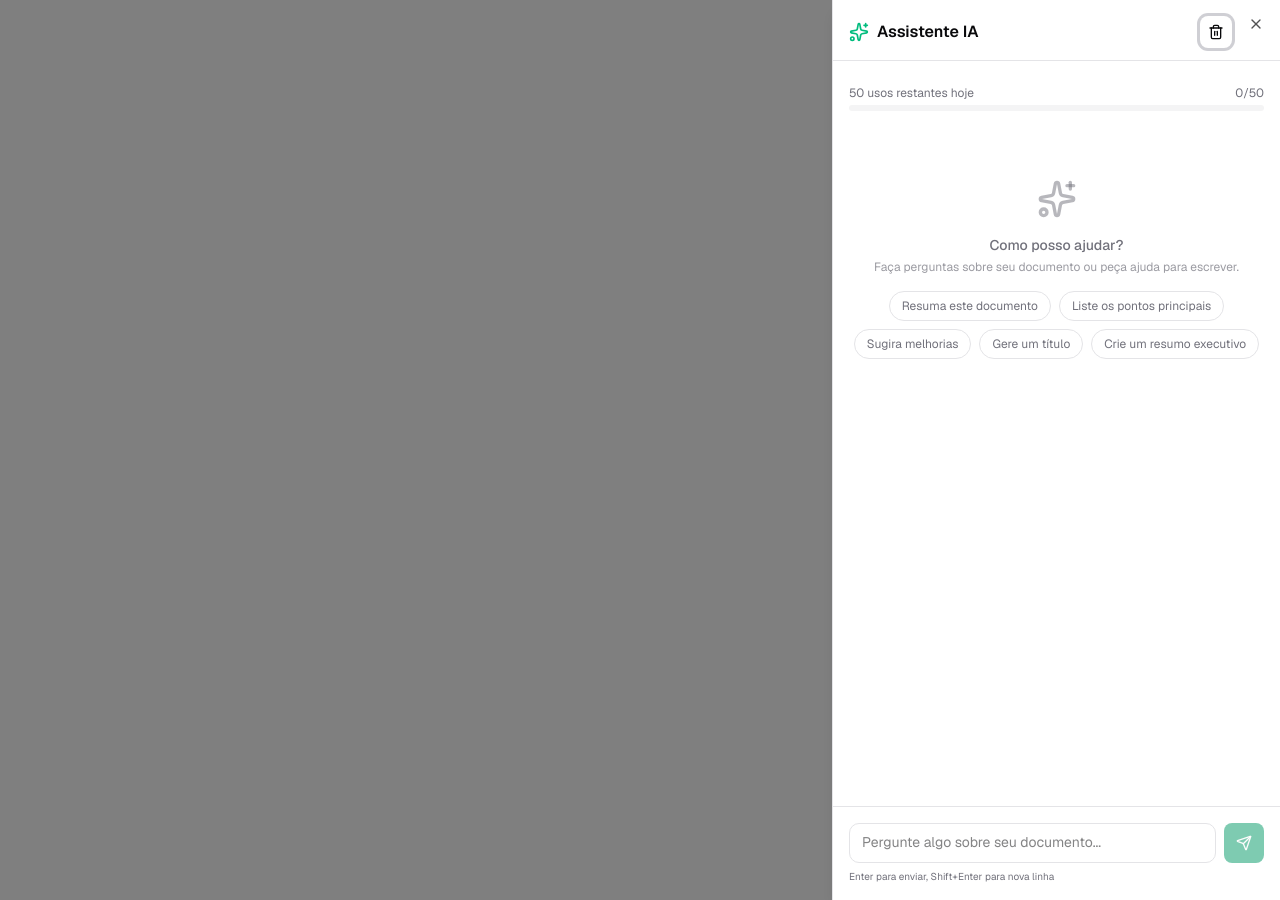
Test: AI Flow Integration › multi-turn: 2 user messages → store has 4 entries (2 user + 2 assistant)
First message
Step 1. Type "First question" into the text box with placeholder "Pergunte algo sobre seu documento..." → {"x": 1032, "y": 843}, box [849,823,1216,863]
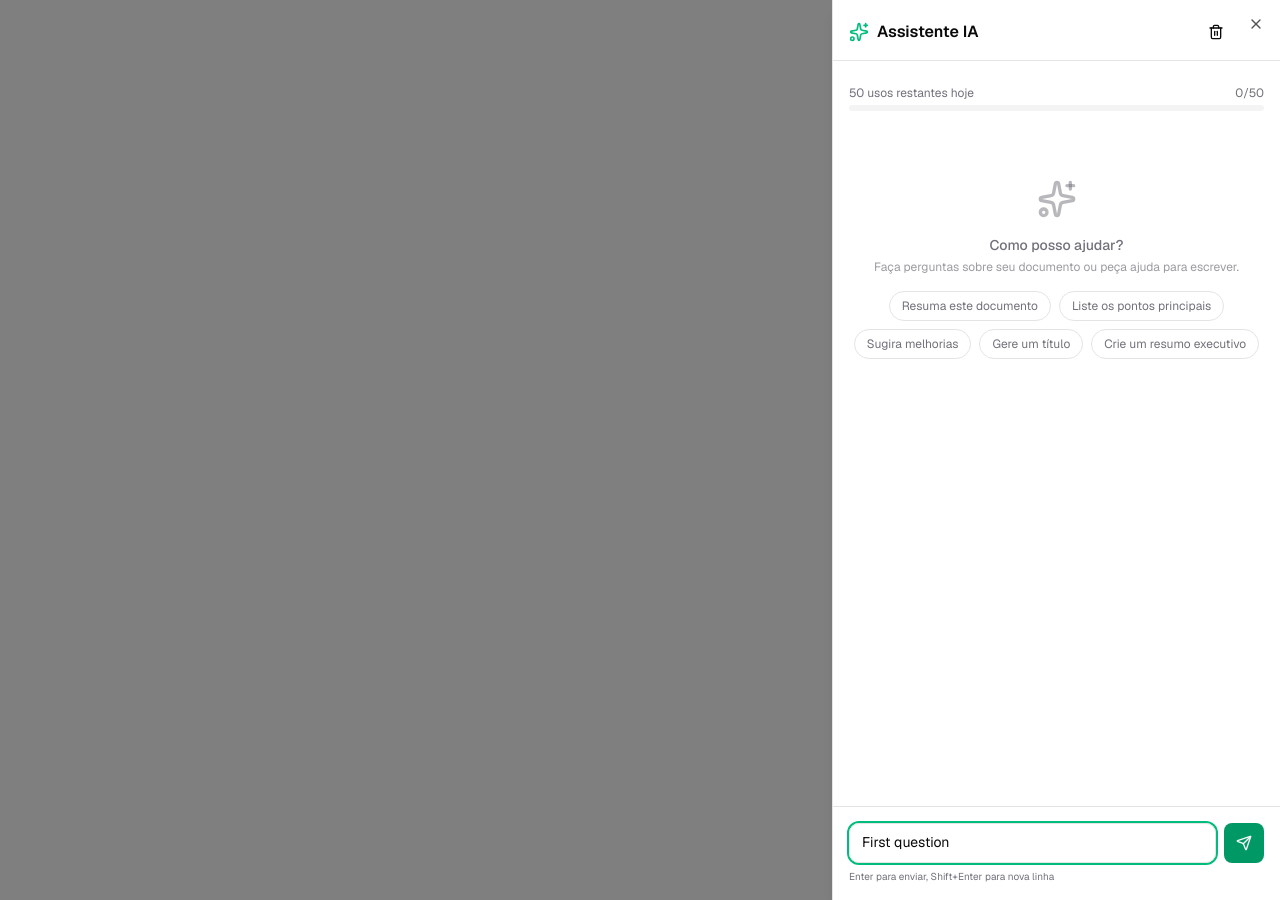
Step 2. Press Enter
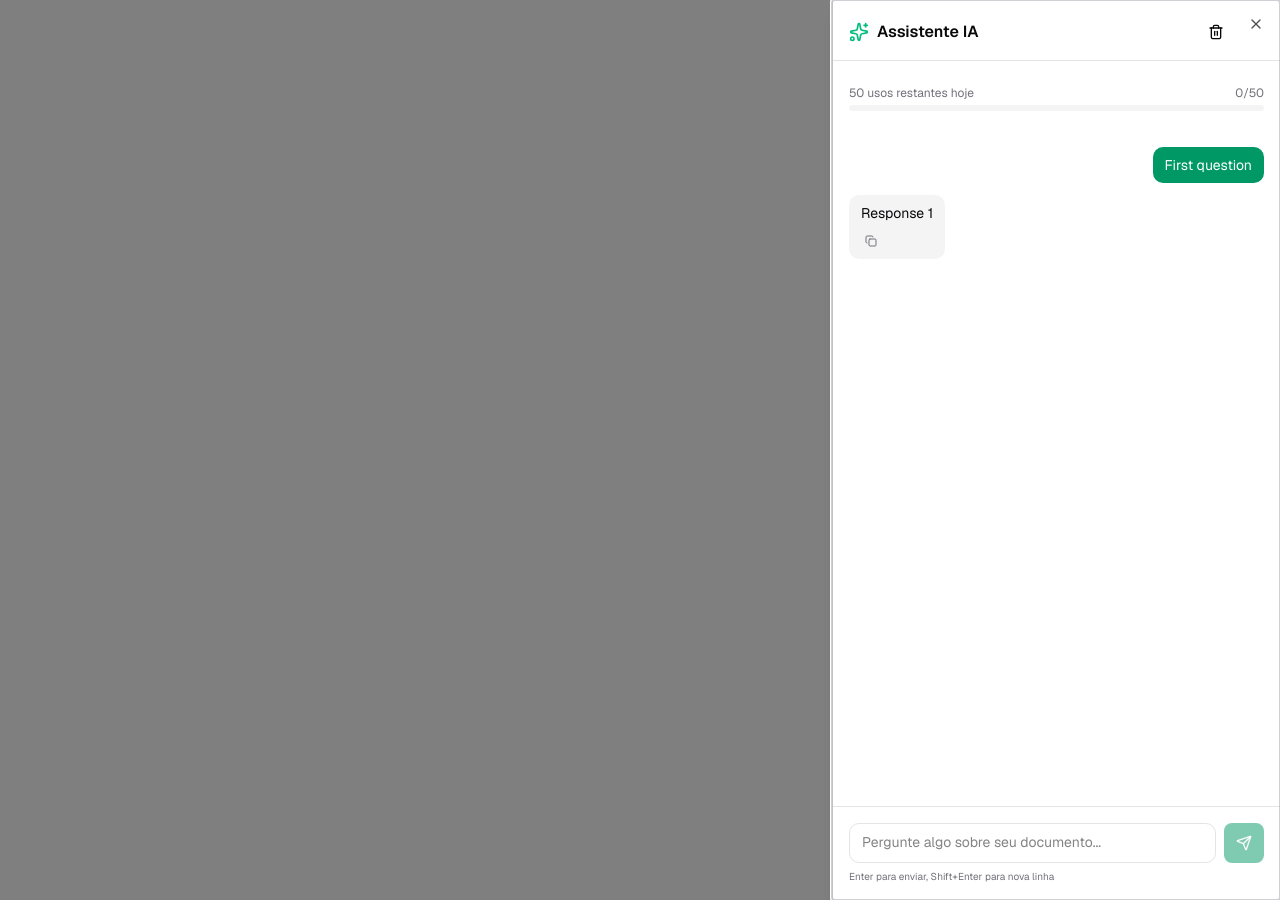
Expected: the text "Response 1" is shown, [861,203,933,223]
Second message
Step 3. Type "Second question" into the text box with placeholder "Pergunte algo sobre seu documento..." → {"x": 1032, "y": 843}, box [849,823,1216,863]
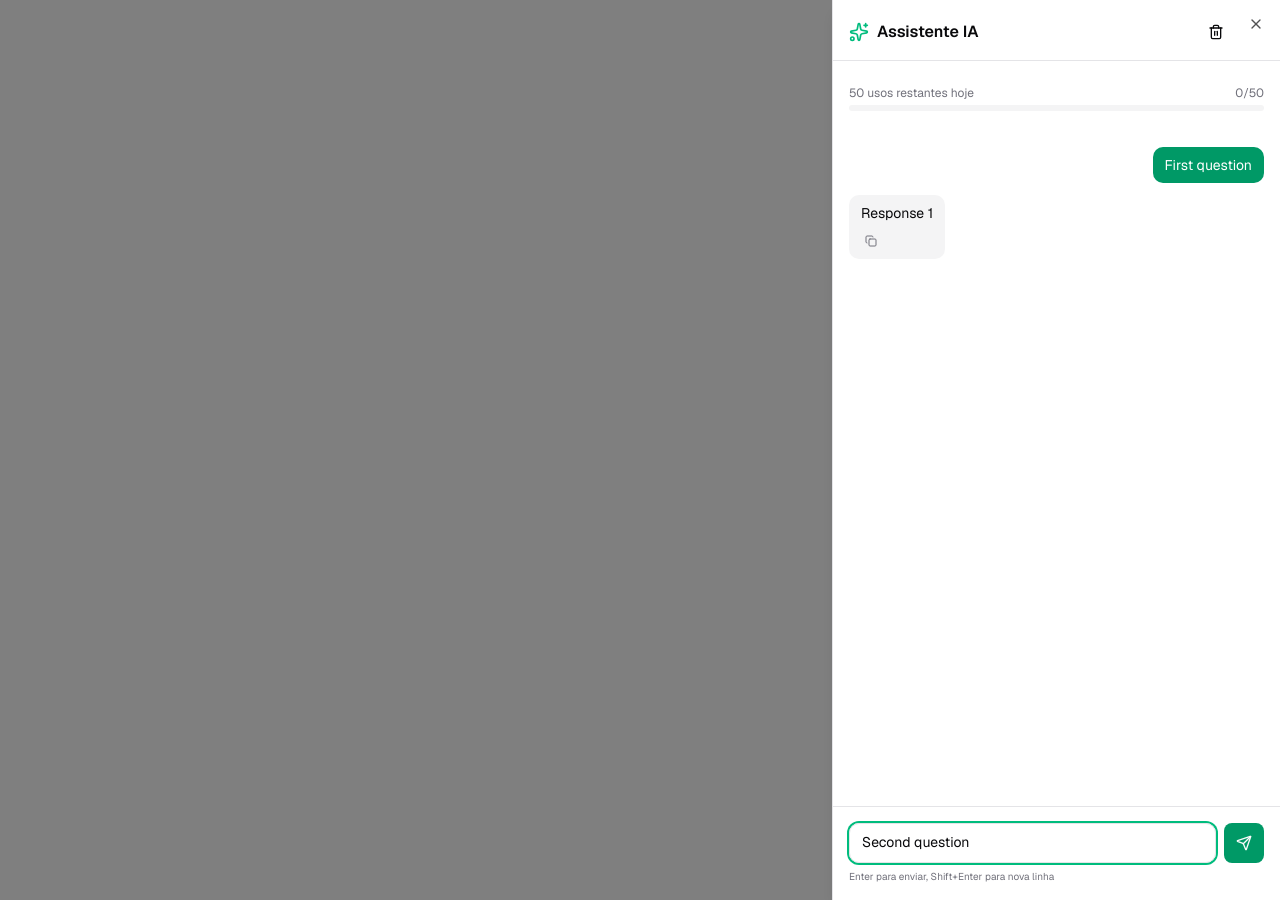
Step 4. Press Enter
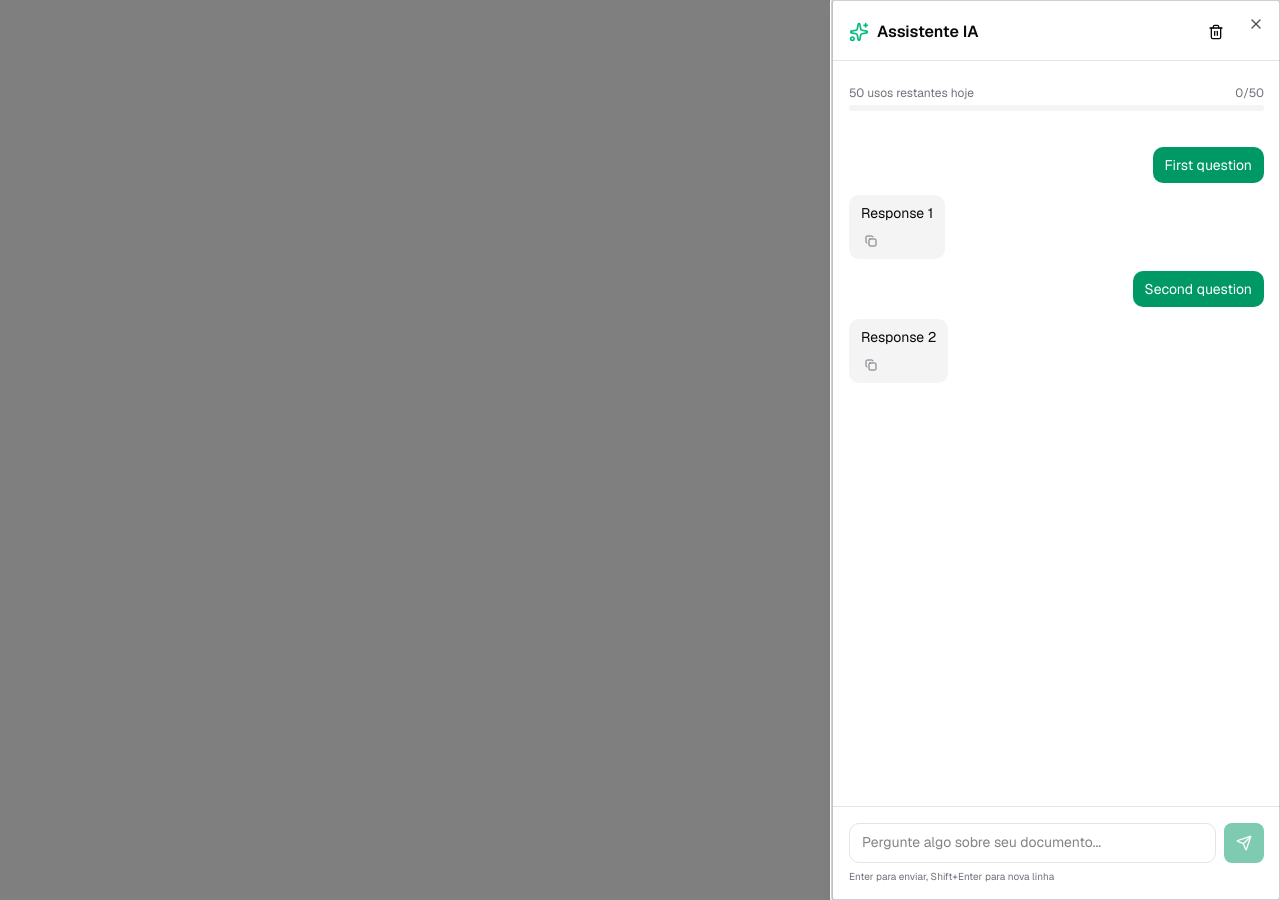
Expected: the text "Response 2" is shown, [861,327,936,347]
